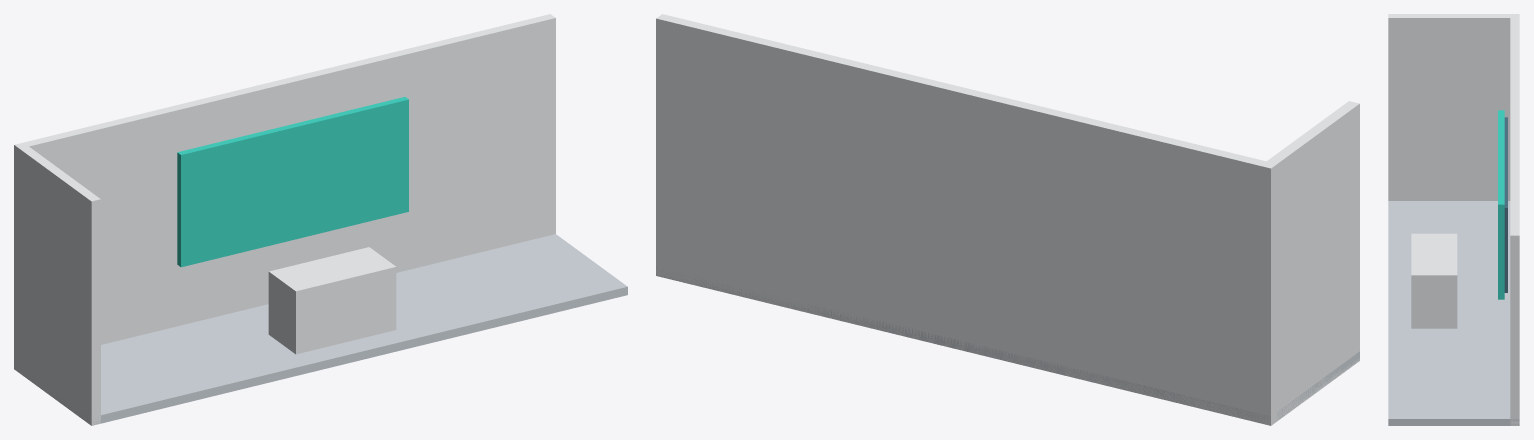
3 views of the same model, side by side, from view 1: azimuth 30°, elevation 25°; view 2: azimuth 150°, elevation 25°; view 3: azimuth 270°, elevation 25° (orthographic). The views are drawn at different scales.
Parts seen in each view (by area): view 1: Exhibition Booth Concept; view 2: Exhibition Booth Concept; view 3: Exhibition Booth Concept.
Boxes of the visible parts, left/top/right/bottom form: Exhibition Booth Concept: left=14, top=14, right=627, bottom=425; Exhibition Booth Concept: left=656, top=14, right=1359, bottom=425; Exhibition Booth Concept: left=1388, top=14, right=1519, bottom=425.
Bounding box in the file's own units: 8 × 3.2 × 2.
